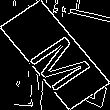M_NE: (17, 22, 93, 88)
